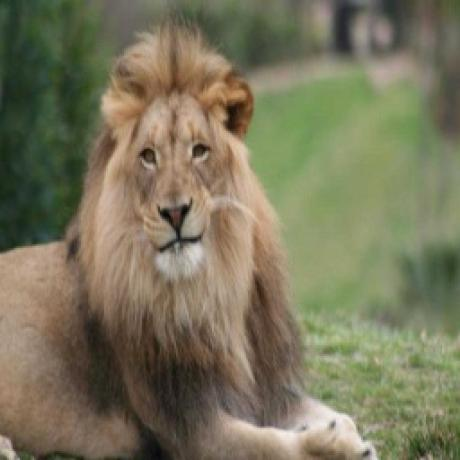Lion: (0, 16, 377, 460)
